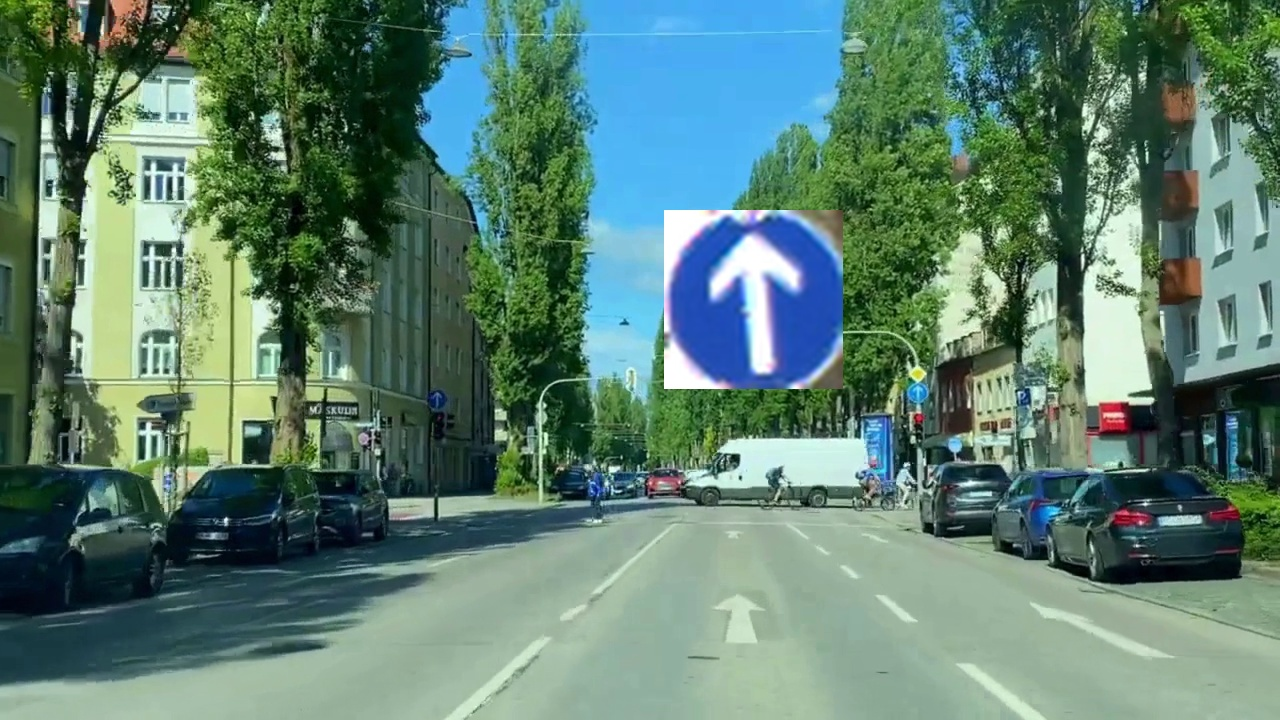Ahead only: (664, 210, 843, 389)
